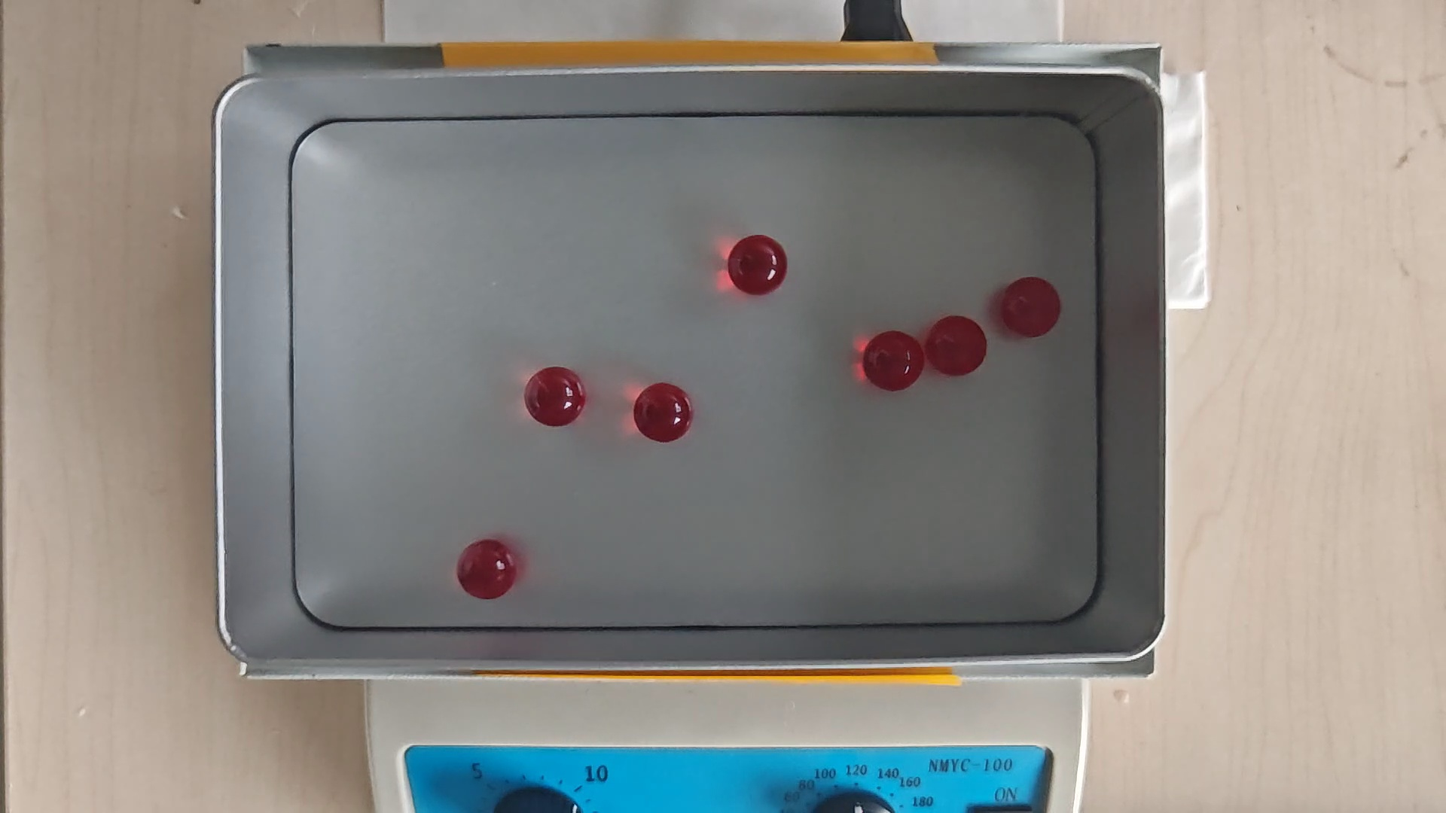ball: (1002, 275, 1062, 337), (926, 315, 985, 378), (866, 328, 923, 393), (728, 235, 788, 296), (633, 381, 691, 443), (457, 539, 514, 601), (526, 367, 582, 430)
container: (285, 114, 1095, 626)
